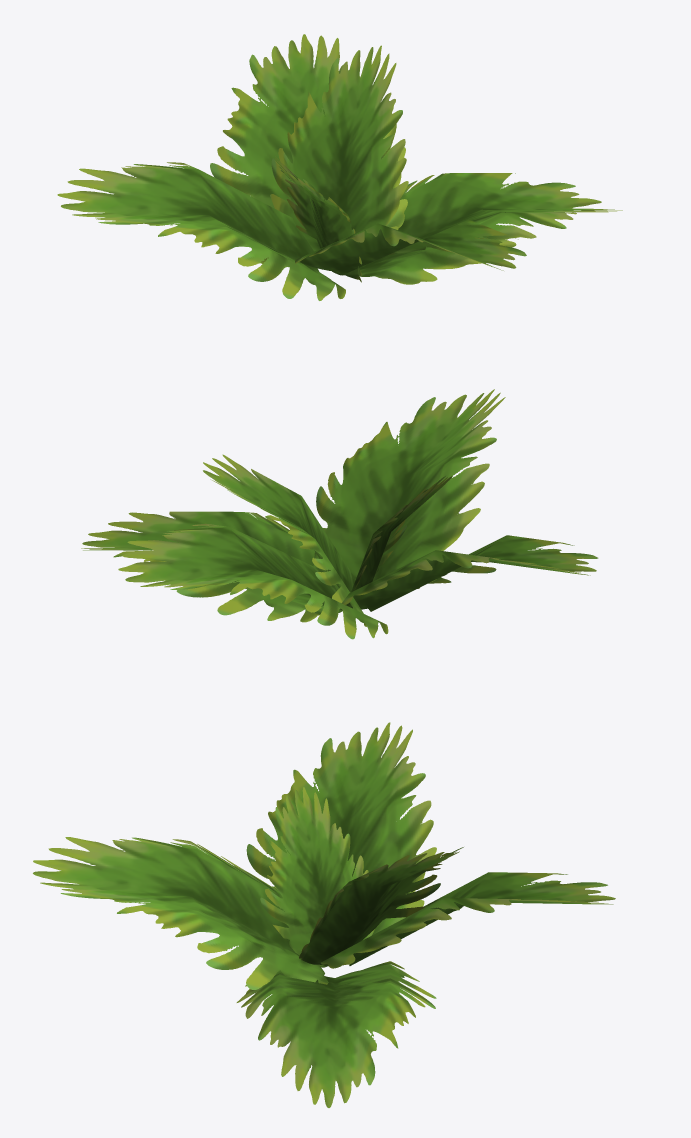
Rendered from palm_tree.fbx.
The picture shows the model from 3 angles, top to bottom: view 1: azimuth 30°, elevation 25°; view 2: azimuth 150°, elevation 25°; view 3: azimuth 270°, elevation 25°; orthographic projection.
Visible parts, largest first — view 1: pPlane7; view 2: pPlane7; view 3: pPlane7.
Part boxes in pixels (left/top/right/bottom): pPlane7: left=57, top=34, right=622, bottom=300; pPlane7: left=81, top=389, right=598, bottom=639; pPlane7: left=33, top=722, right=615, bottom=1107.
Size of the model in its own units: 4086 by 1408 by 4010.
